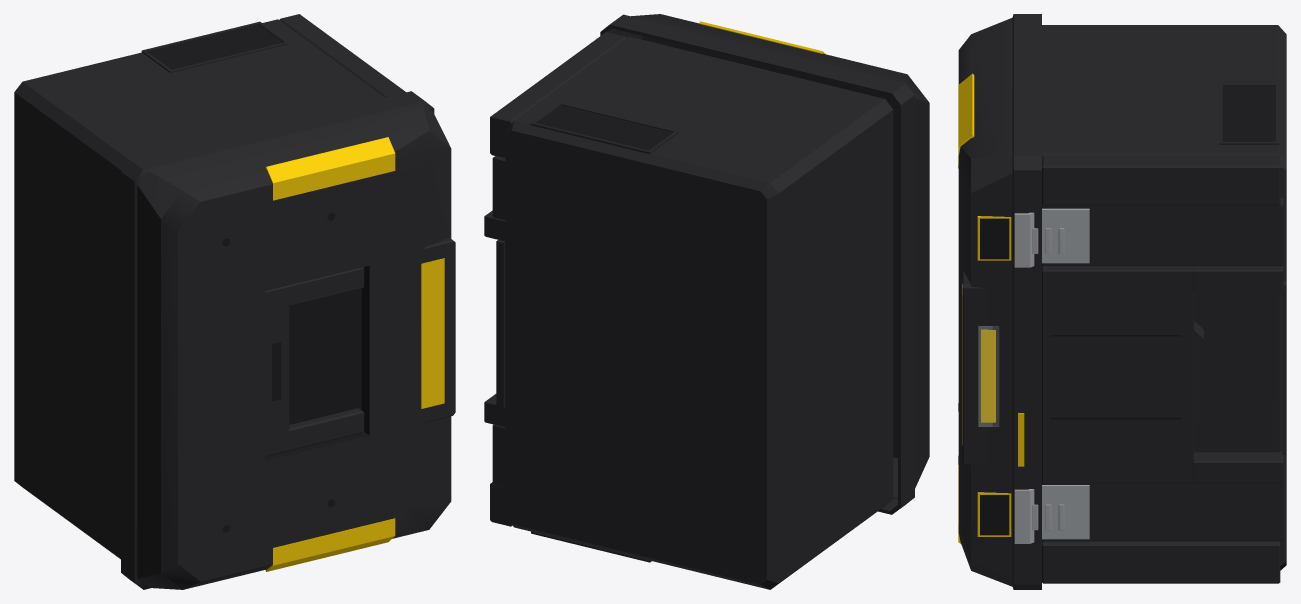
The model's file is DWST83346.glb.
3 renders of one model, left to right at view 1: azimuth 30°, elevation 25°; view 2: azimuth 150°, elevation 25°; view 3: azimuth 270°, elevation 25°, orthographic. The views are drawn at different scales.
Parts seen in each view (by area): view 1: vicko_plast, korpus_vana, vicko_kapsa, hak_stoh_p, logo_dewalt, drzadlo_hmat, hak_stoh_l, ostruvek, bok_kapsa_p, drzadlo_rameno_l, celo_sloupek_p, drzadlo_rameno_p (+1 smaller); view 2: korpus_vana, vicko_plast, celo_sloupek_p, bok_kapsa_p, kapsa_dno, celo_zona_p, celo_zona_l, celo_sloupek_l; view 3: korpus_vana, vicko_plast, celo_panel_horni, celo_zona_p, celo_sloupek_p, celo_zona_l, celo_sloupek_l, ostruvek, zamek_p, zamek_l, bok_kapsa_p, celo_panel_levy (+8 smaller).
Boxes of the visible parts, bbox=[...] form: vicko_plast: bbox=[121, 91, 451, 589]; korpus_vana: bbox=[14, 19, 384, 559]; vicko_kapsa: bbox=[265, 265, 369, 460]; hak_stoh_p: bbox=[265, 137, 395, 200]; logo_dewalt: bbox=[421, 258, 444, 408]; drzadlo_hmat: bbox=[265, 287, 289, 453]; hak_stoh_l: bbox=[265, 518, 395, 571]; ostruvek: bbox=[422, 238, 455, 422]; bok_kapsa_p: bbox=[147, 24, 283, 69]; drzadlo_rameno_l: bbox=[265, 408, 364, 456]; celo_sloupek_p: bbox=[279, 14, 405, 97]; drzadlo_rameno_p: bbox=[265, 267, 364, 311]; korpus_vana: bbox=[505, 36, 893, 589]; vicko_plast: bbox=[600, 14, 929, 514]; celo_sloupek_p: bbox=[490, 32, 626, 158]; bok_kapsa_p: bbox=[536, 105, 673, 150]; kapsa_dno: bbox=[496, 240, 505, 407]; celo_zona_p: bbox=[492, 156, 505, 220]; celo_zona_l: bbox=[492, 424, 505, 487]; celo_sloupek_l: bbox=[490, 482, 512, 526]; korpus_vana: bbox=[1042, 25, 1286, 570]; vicko_plast: bbox=[958, 14, 1041, 589]; celo_panel_horni: bbox=[1042, 265, 1194, 483]; celo_zona_p: bbox=[1042, 198, 1283, 265]; celo_sloupek_p: bbox=[1042, 155, 1280, 205]; celo_zona_l: bbox=[1042, 482, 1283, 541]; celo_sloupek_l: bbox=[1042, 541, 1280, 583]; ostruvek: bbox=[962, 270, 987, 465]; zamek_p: bbox=[1014, 208, 1089, 267]; zamek_l: bbox=[1014, 485, 1089, 543]; bok_kapsa_p: bbox=[1222, 86, 1275, 141]; celo_panel_levy: bbox=[1193, 451, 1283, 483].
Size of the model in its own units: 333 by 440 by 302.
